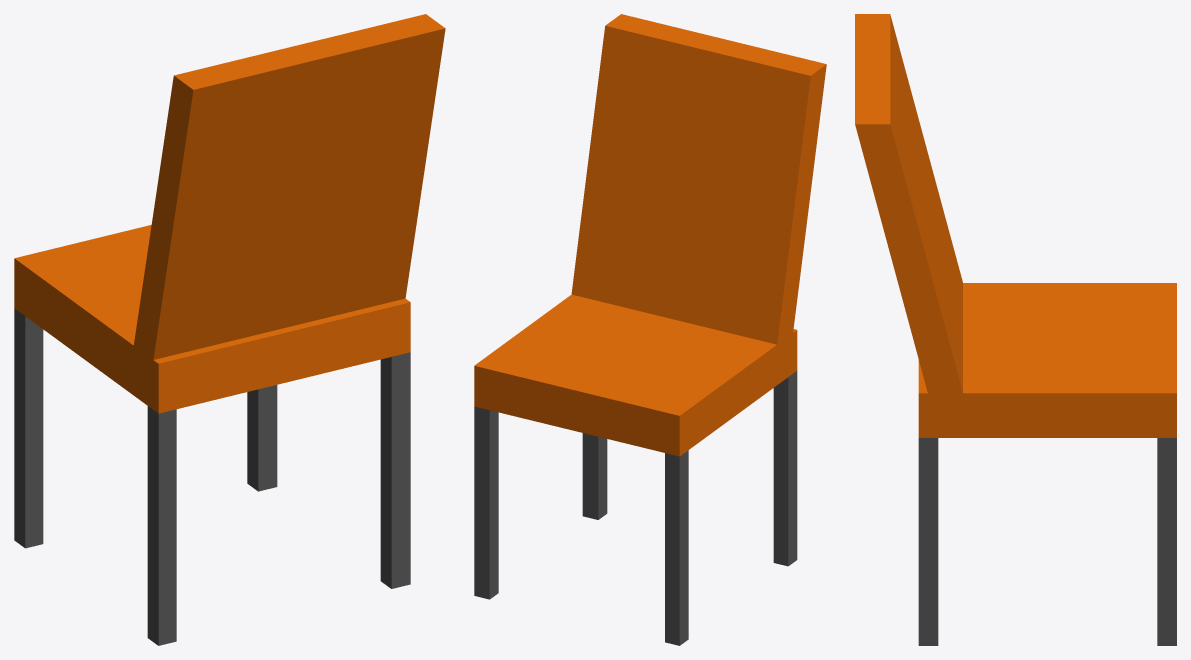
The model's file is Chair 1.fbx.
3 renders of one model, left to right at view 1: azimuth 30°, elevation 25°; view 2: azimuth 150°, elevation 25°; view 3: azimuth 270°, elevation 25°, orthographic. The views are drawn at different scales.
Parts seen in each view (by area): view 1: Cube; view 2: Cube; view 3: Cube.
Part boxes in pixels (x1,y1,x2,y2): Cube: (14,14,445,645); Cube: (474,14,826,645); Cube: (855,14,1176,645).
Bounding box in the file's own units: 284 × 625 × 350.
